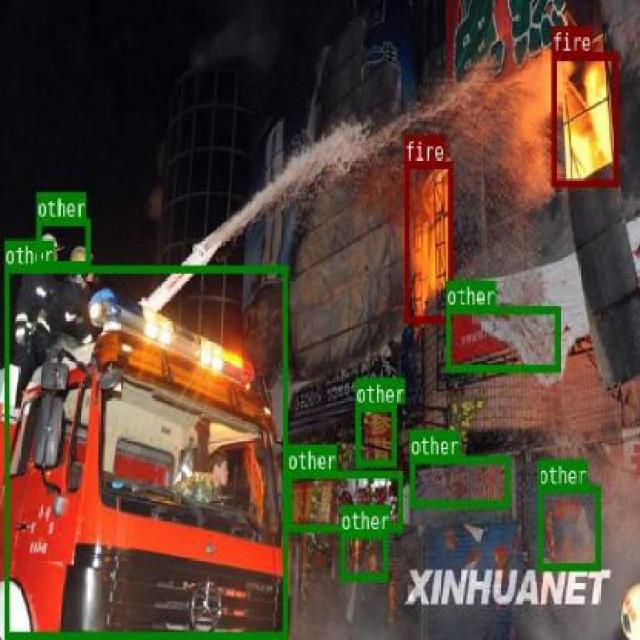fire: (551, 50, 617, 184), (404, 161, 452, 321)
